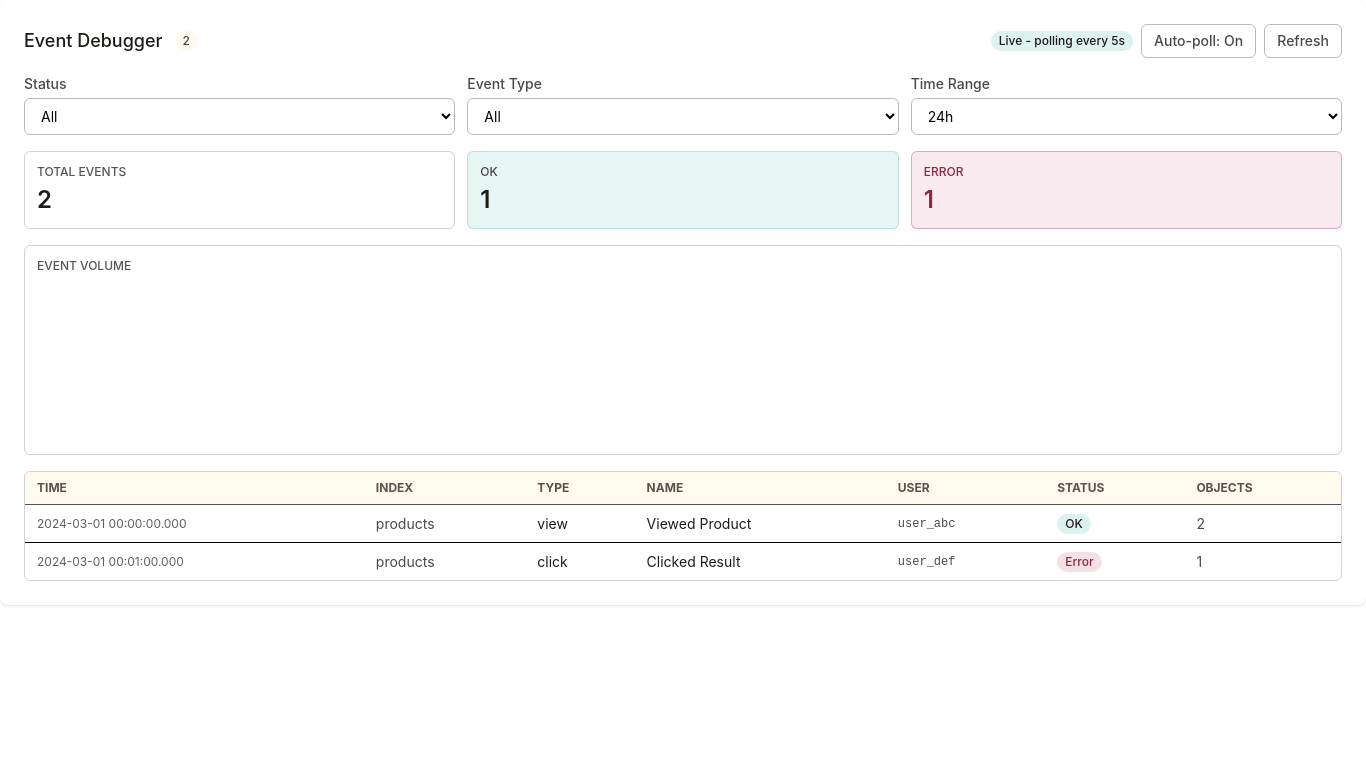
Test: EventsTab › event detail panel › event detail shows Object IDs from the selected event
Click the 2nd row. click: {"x": 683, "y": 524}
box: [25,504,1341,542]
(page scrolled)
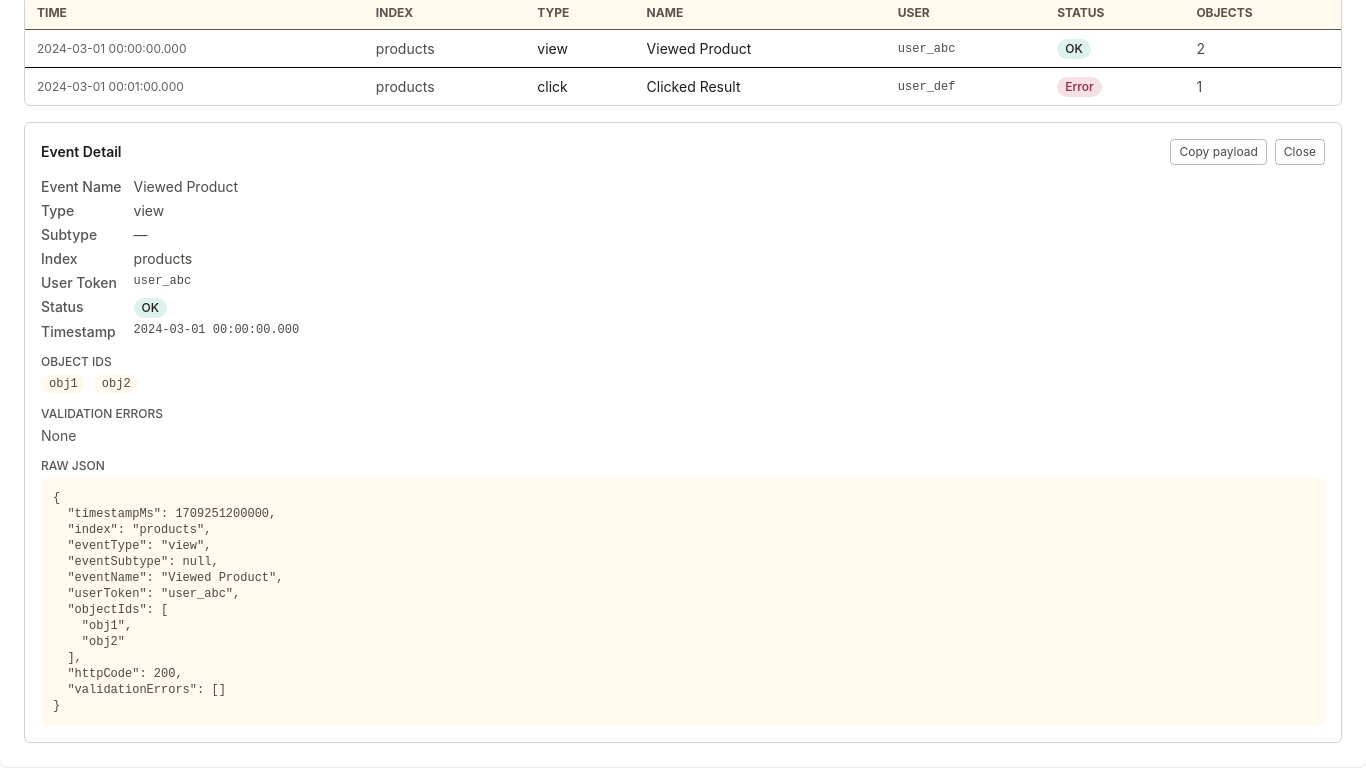
Now the text "obj1" is shown, box [41,374,86,394]
Now the text "obj2" is shown, box [94,374,139,394]
